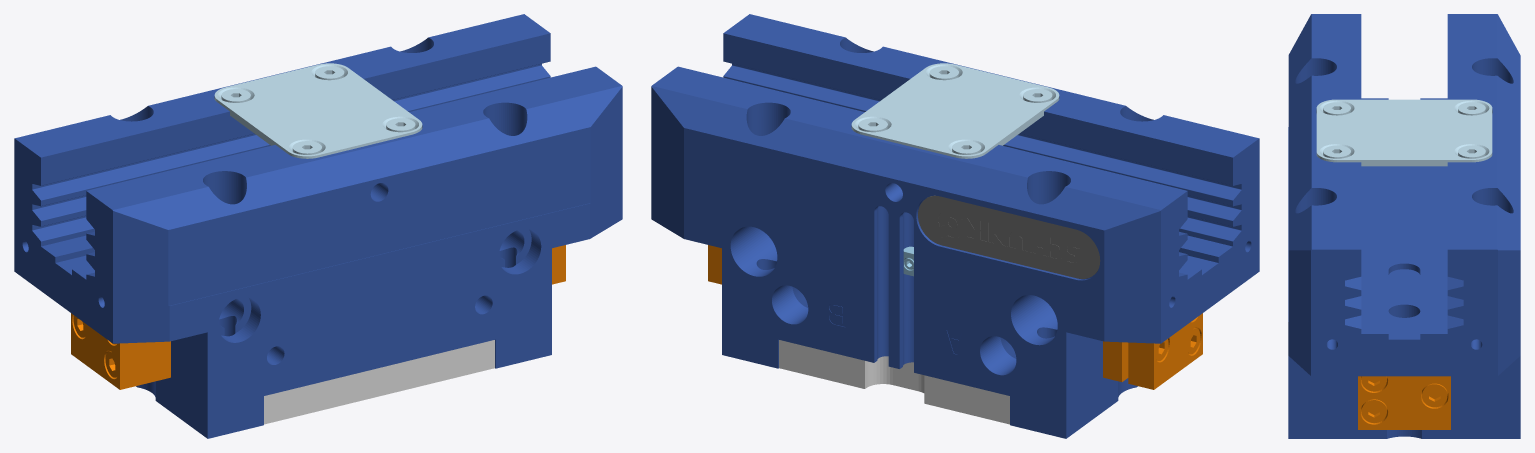
The model's file is main_body.dae.
The picture shows the model from 3 angles, left to right: view 1: azimuth 30°, elevation 25°; view 2: azimuth 150°, elevation 25°; view 3: azimuth 270°, elevation 25°; orthographic projection. The views are drawn at different scales.
Parts seen in each view (by area): view 1: Part 1, Part 3, Part 2, Part 4; view 2: Part 1, Part 3, Part 5, Part 2, Part 4; view 3: Part 1, Part 3, Part 4.
Part boxes in pixels (bbox=[...]): Part 1: bbox=[14, 14, 622, 438]; Part 3: bbox=[214, 63, 422, 158]; Part 2: bbox=[264, 340, 494, 424]; Part 4: bbox=[71, 313, 170, 389]; Part 1: bbox=[651, 14, 1259, 438]; Part 3: bbox=[851, 63, 1059, 158]; Part 5: bbox=[918, 195, 1100, 278]; Part 2: bbox=[779, 340, 1009, 424]; Part 4: bbox=[1103, 313, 1202, 389]; Part 1: bbox=[1288, 14, 1520, 438]; Part 3: bbox=[1316, 99, 1492, 166]; Part 4: bbox=[1358, 376, 1450, 429].
Bounding box in the file's own units: 0.12 × 0.05 × 0.0545.
